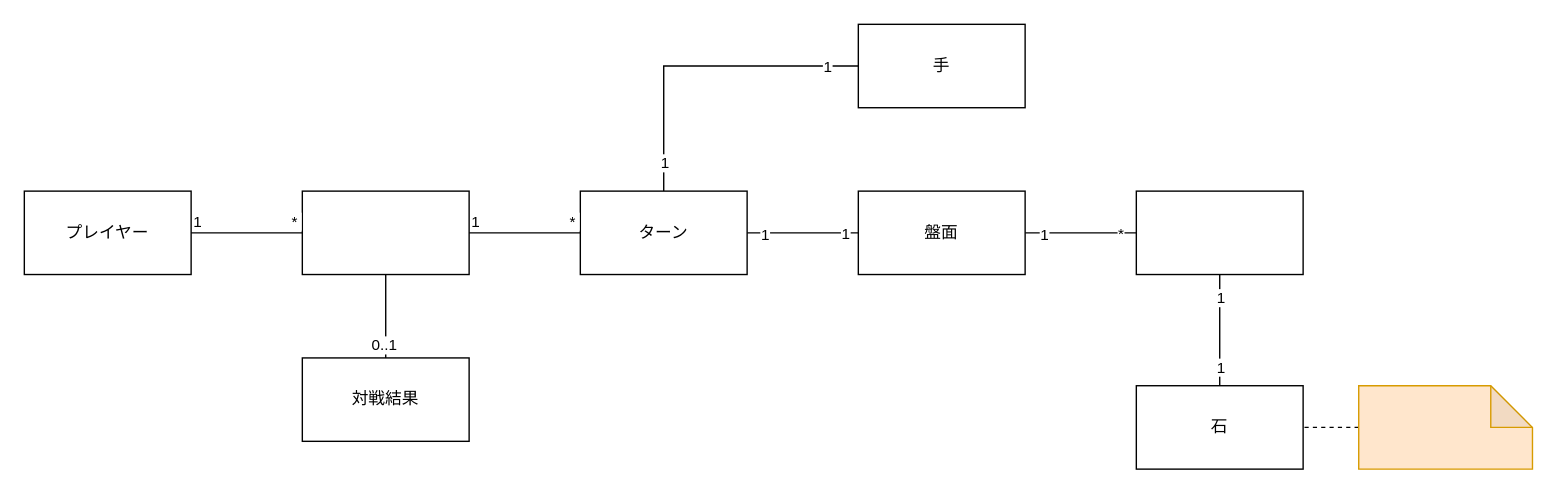
The diagram is 1557 pixels wide and 493 high, and some of its shapes have lost their labels. Each missing label, with the centre of its shape:
"マス目" belongs at point 1219,232.
"対戦（開始）" belongs at point 385,232.
"白・黒・空 がある" belongs at point 1444,426.
